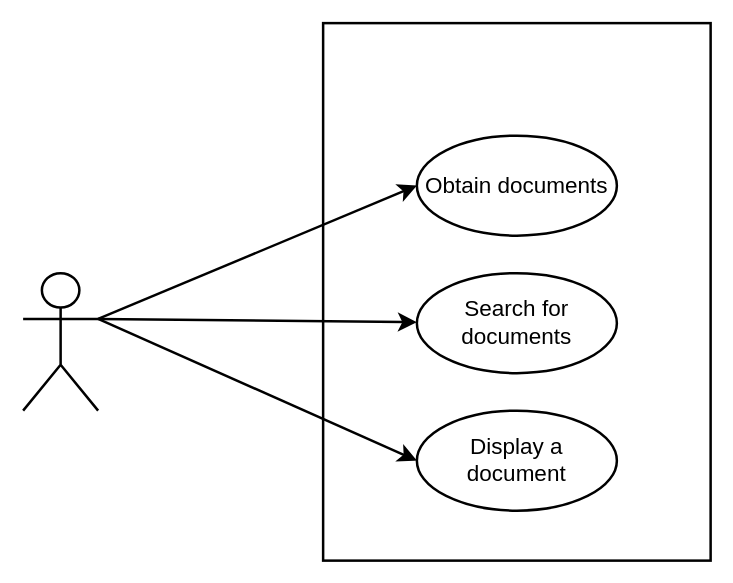
The diagram is 733 pixels wide and 583 high, and some of its shapes have lost their labels. The box of each missing label's shape, as (x1, y1, x2, y2) in pixels:
KEngine: (321, 21, 711, 561)
User: (21, 271, 99, 411)
